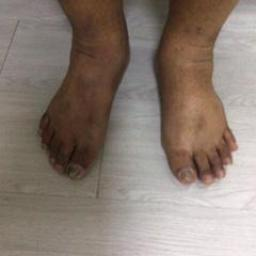Dorsal View -Both Feet-: (31, 2, 245, 204)
